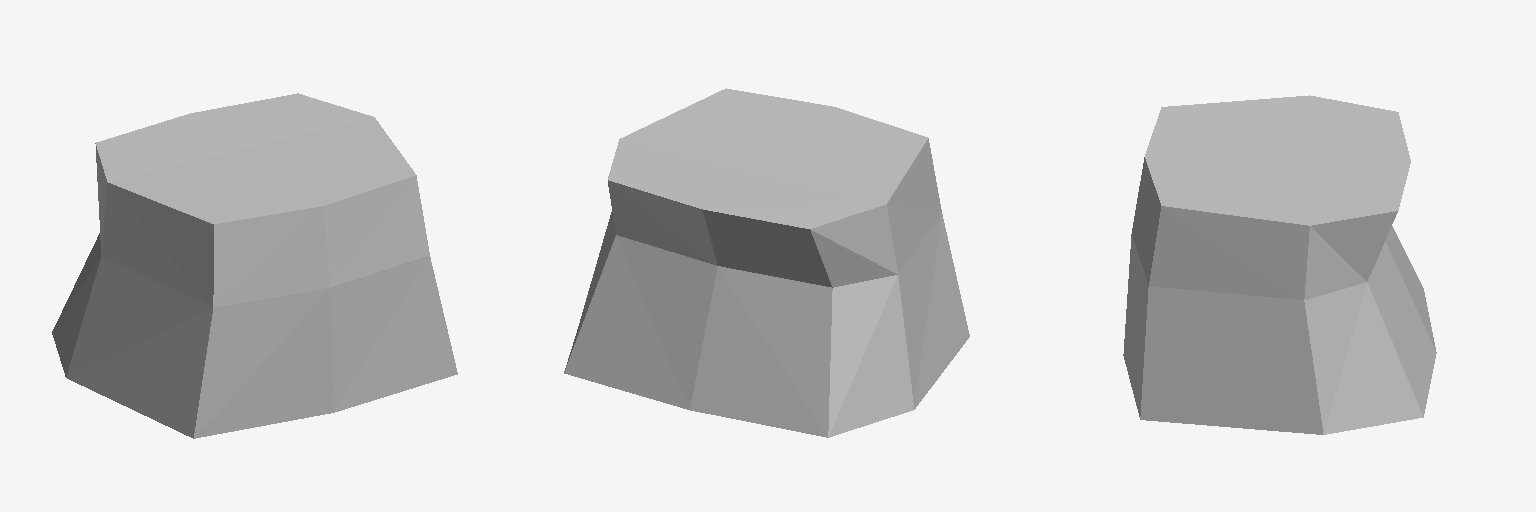
File: Abdomem.obj
The picture shows the model from 3 angles: view 1: azimuth 30°, elevation 25°; view 2: azimuth 150°, elevation 25°; view 3: azimuth 270°, elevation 25°; orthographic projection.
Visible parts, largest first — view 1: Abdomem_Cube.010; view 2: Abdomem_Cube.010; view 3: Abdomem_Cube.010.
Boxes of the visible parts, x1,y1,x2,y2 form: Abdomem_Cube.010: [52, 93, 457, 438]; Abdomem_Cube.010: [564, 88, 969, 437]; Abdomem_Cube.010: [1123, 95, 1436, 434].
Bounding box in the file's own units: 0.3033 × 0.1714 × 0.2445.